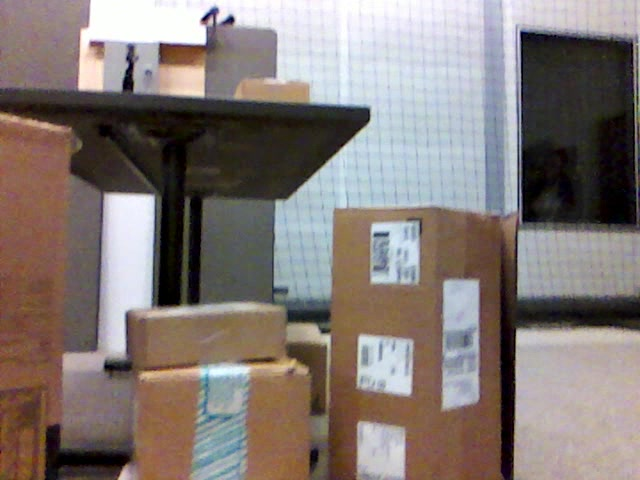box: (332, 208, 519, 480), (1, 112, 65, 480), (130, 361, 311, 478), (125, 301, 287, 366), (233, 78, 311, 101)
